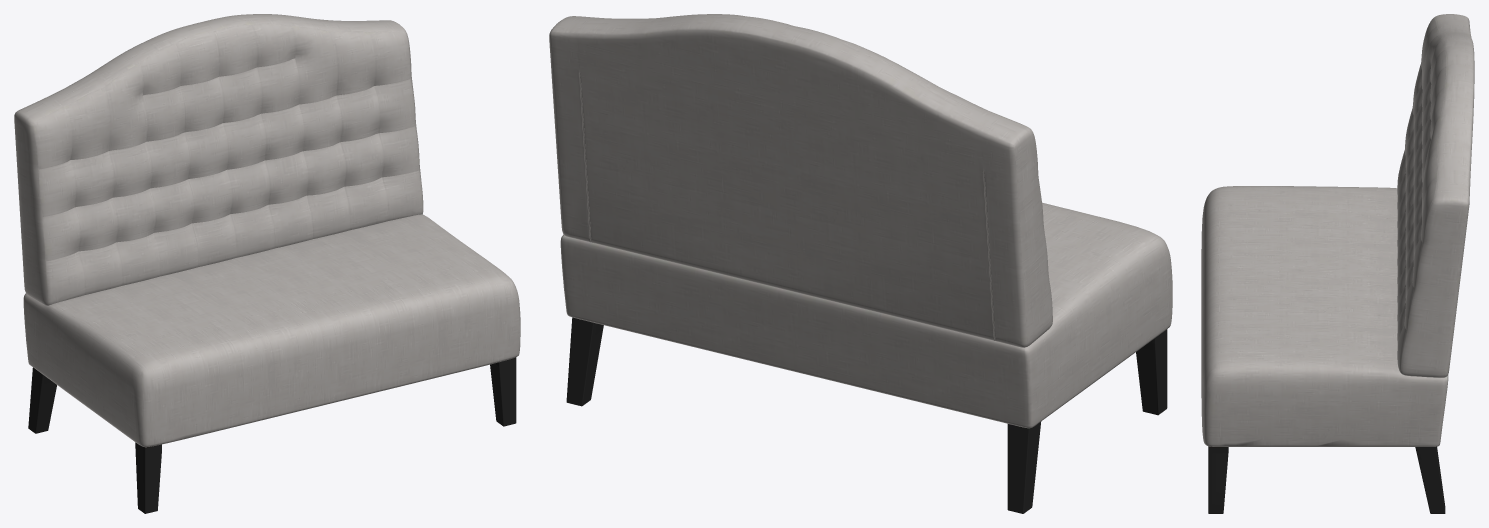
The model's file is B07DBDRN8S.glb.
3 views of the same model, side by side, from view 1: azimuth 30°, elevation 25°; view 2: azimuth 150°, elevation 25°; view 3: azimuth 270°, elevation 25° (orthographic). The views are drawn at different scales.
Parts seen in each view (by area): view 1: RootNode; view 2: RootNode; view 3: RootNode.
Part boxes in pixels (x1,y1,x2,y2): RootNode: [14, 14, 520, 513]; RootNode: [549, 14, 1172, 513]; RootNode: [1201, 14, 1474, 513].
Bounding box in the file's own units: 1.33 × 1.18 × 0.8145.
1 material, 1 textured.
